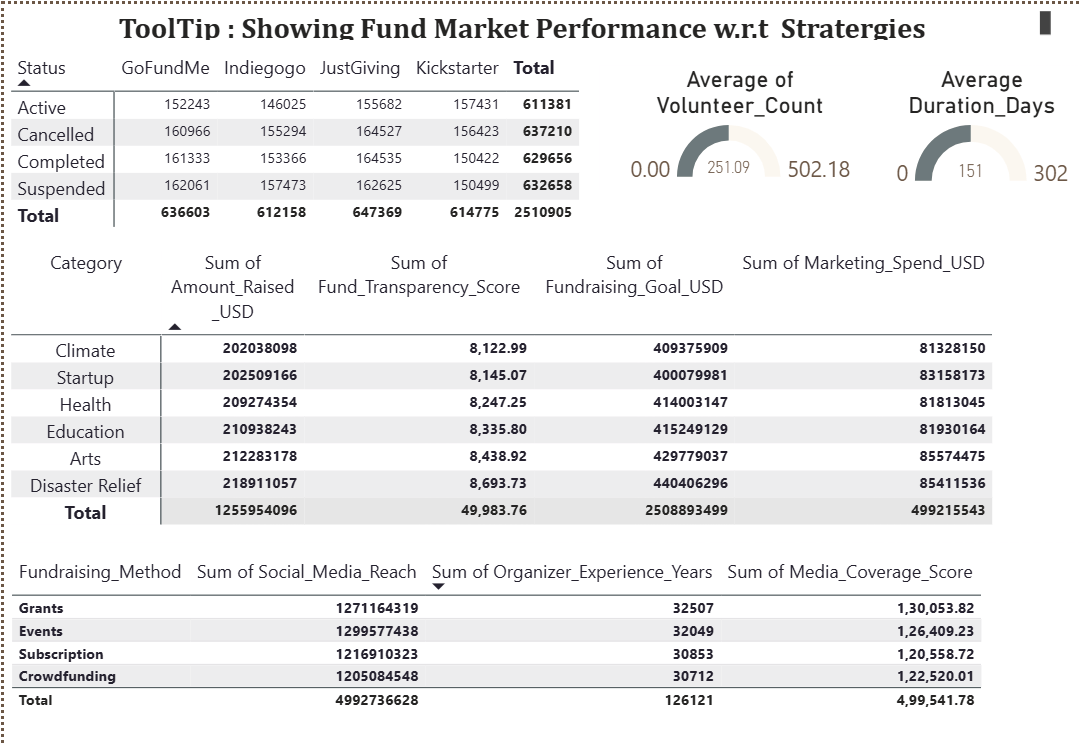

The dashboard page shown, as its layout file describes it:
{"tool":"powerbi","page":{"name":"Funding Information","canvas":[800,550],"ordinal":1},"visuals":[{"type":"pivotTable","fields":{"Rows":["Data.Category"],"Values":["Sum(Data.Amount_Raised_USD)","Sum(Data.Fund_Transparency_Score)","Sum(Data.Fundraising_Goal_USD)","Sum(Data.Marketing_Spend_USD)"]},"box":[0,175,800,223.3],"z":0},{"type":"pivotTable","fields":{"Rows":["Data.Status"],"Values":["Sum(Data.Volunteer_Count)"],"Columns":["Data.Payment_Gateway_Used"]},"box":[0,31,453,152],"z":1000},{"type":"tableEx","fields":{"Values":["Data.Fundraising_Method","Sum(Data.Social_Media_Reach)","Sum(Data.Organizer_Experience_Years)","Sum(Data.Media_Coverage_Score)"]},"box":[0,404.2,789.2,145.8],"z":2000},{"type":"textbox","box":[80,0,700,30.8],"z":3000},{"type":"gauge","title":"Average Duration_Days","fields":{"Y":["Count(Data.Duration_Days)"]},"box":[649,45,151,95],"z":4000},{"type":"gauge","fields":{"Y":["Avg(Data.Volunteer_Count)"]},"box":[441,45,208,92],"z":5000}]}

Visuals, with their boxes in screenshot pixels (x1, y1, x2, y2), scaled from the page's 800x550 canvas onto the 1083x744 screenshot:
pivotTable - Data.Category x Sum(Data.Amount_Raised_USD): {"left": 0, "top": 237, "right": 1082, "bottom": 539}
pivotTable - Data.Status x Sum(Data.Volunteer_Count): {"left": 0, "top": 42, "right": 613, "bottom": 248}
tableEx - Data.Fundraising_Method x Sum(Data.Social_Media_Reach): {"left": 0, "top": 547, "right": 1068, "bottom": 743}
textbox: {"left": 108, "top": 0, "right": 1056, "bottom": 42}
"Average Duration_Days" gauge: {"left": 879, "top": 61, "right": 1082, "bottom": 189}
gauge - Avg(Data.Volunteer_Count): {"left": 597, "top": 61, "right": 879, "bottom": 185}
